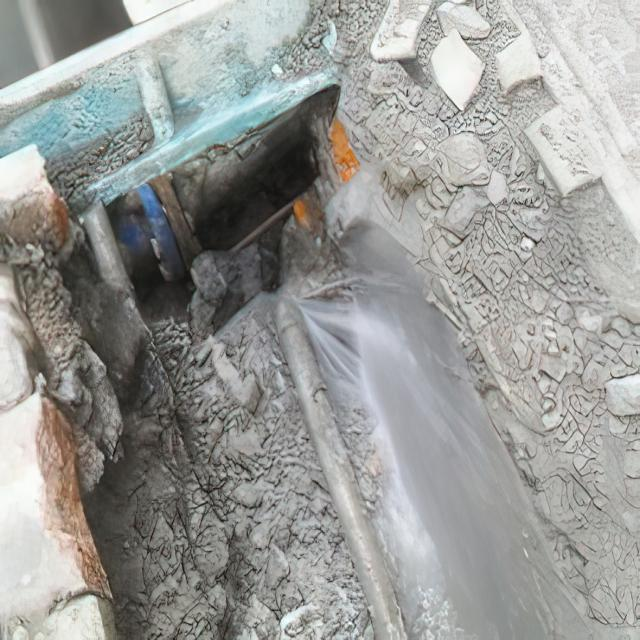leak: (288, 294, 453, 396)
